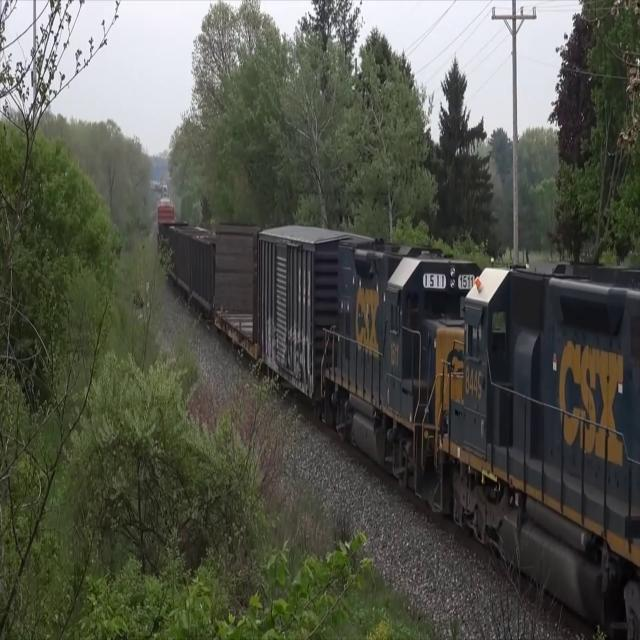boxcar: (258, 219, 372, 412)
flatcar_bulkhead: (212, 218, 260, 364)
locomotive: (435, 245, 640, 640), (321, 230, 482, 516)
